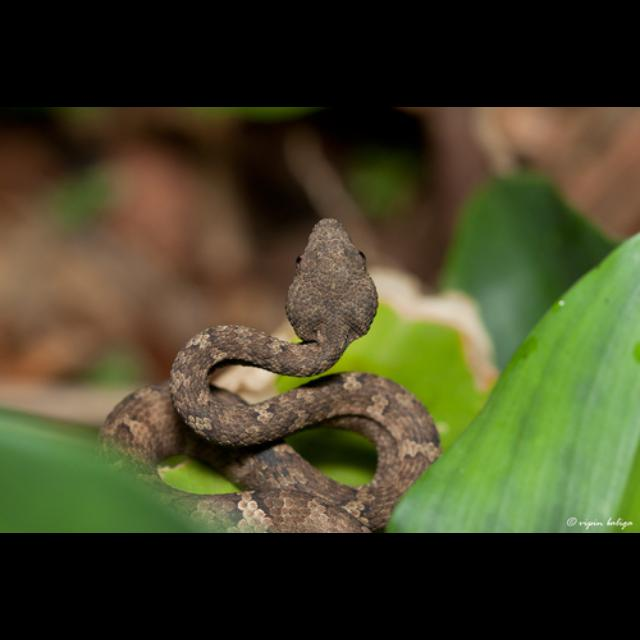snake: (94, 216, 448, 534)
